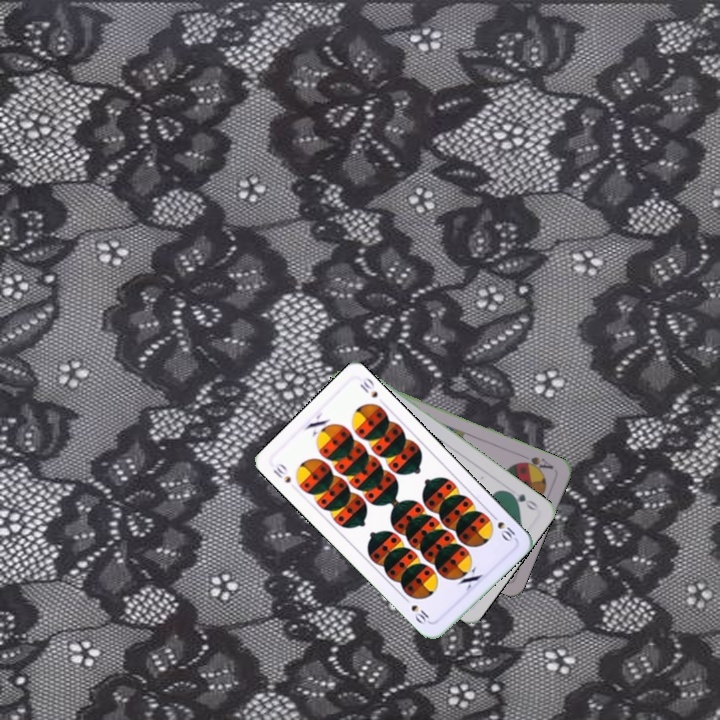GO: (503, 487, 540, 513)
S10: (487, 509, 518, 545), (269, 459, 294, 486)
SA: (516, 453, 556, 474)
